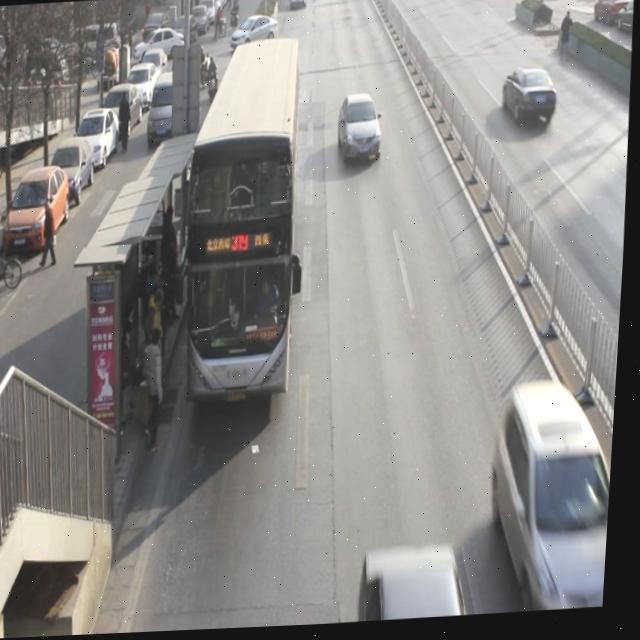car: (490, 393, 619, 618), (336, 97, 387, 173), (501, 71, 561, 131)
van: (177, 39, 310, 401)
